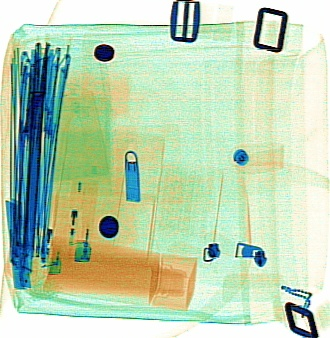lighter: (34, 187, 67, 276), (65, 177, 99, 263)
